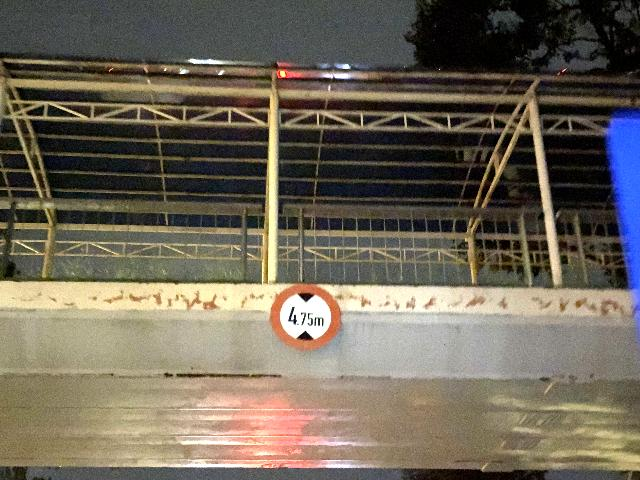han-che-chieu-cao: (269, 283, 342, 350)
